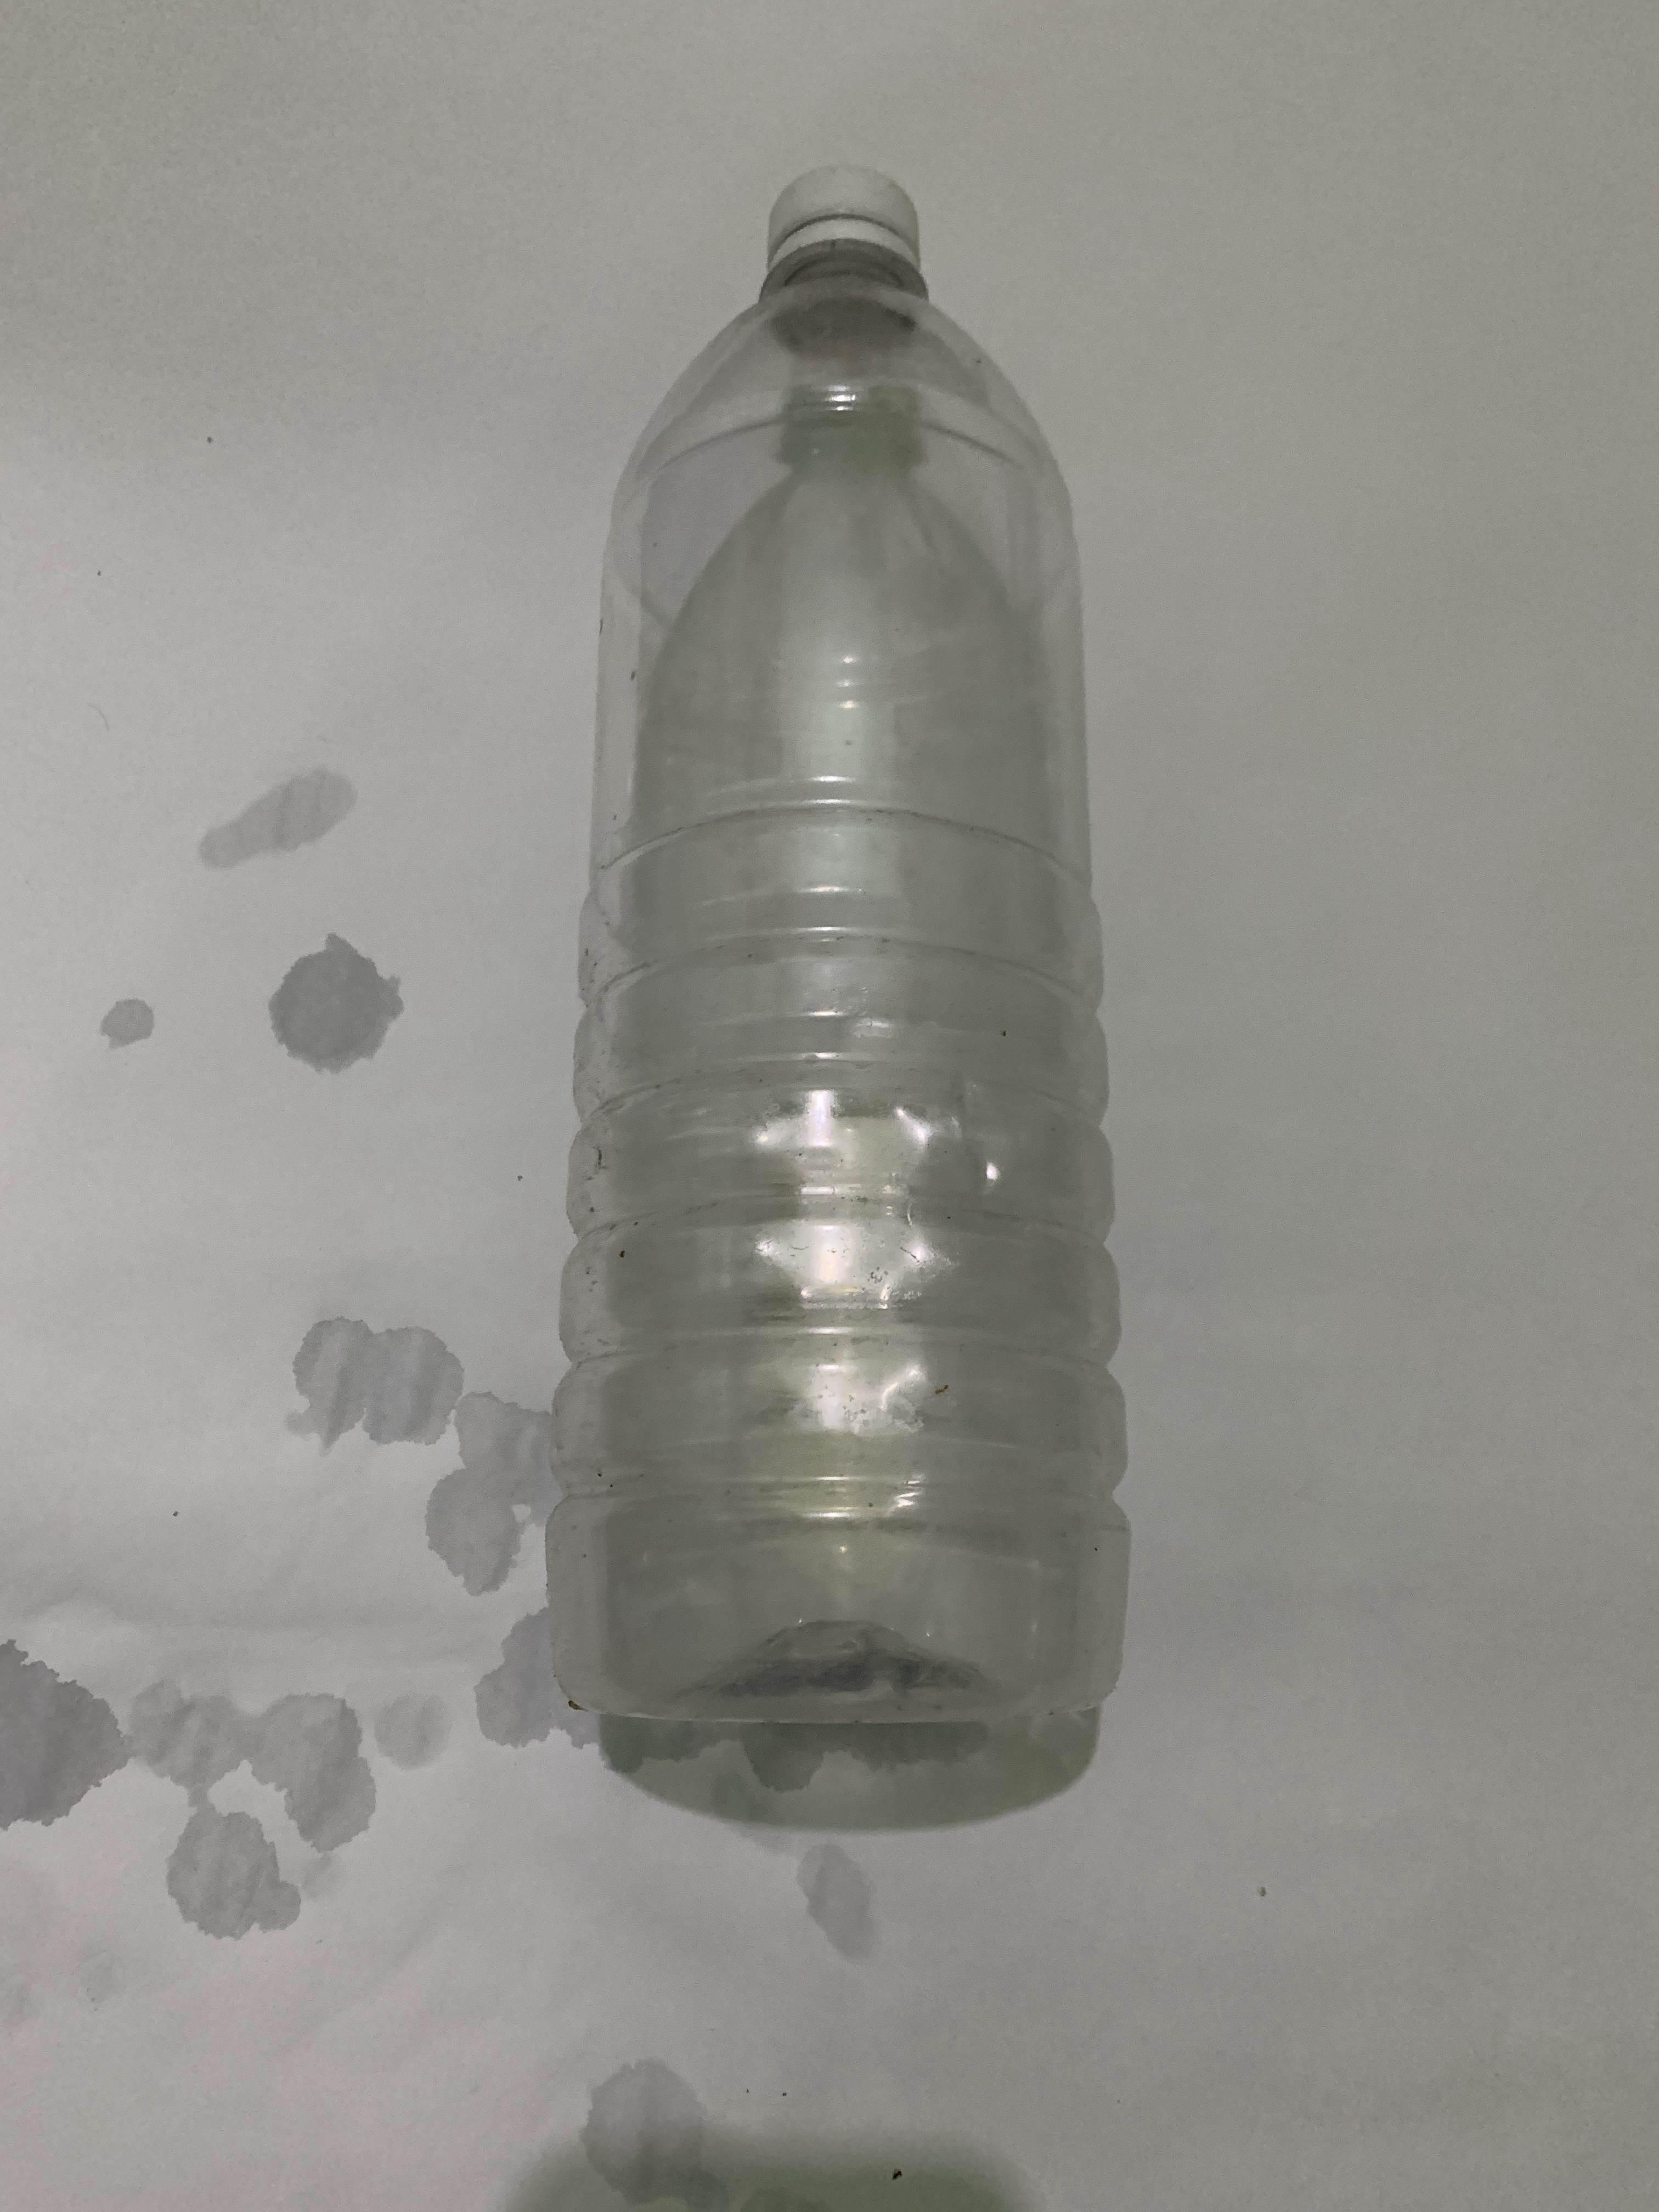bottle: (0, 143, 317, 1733)
